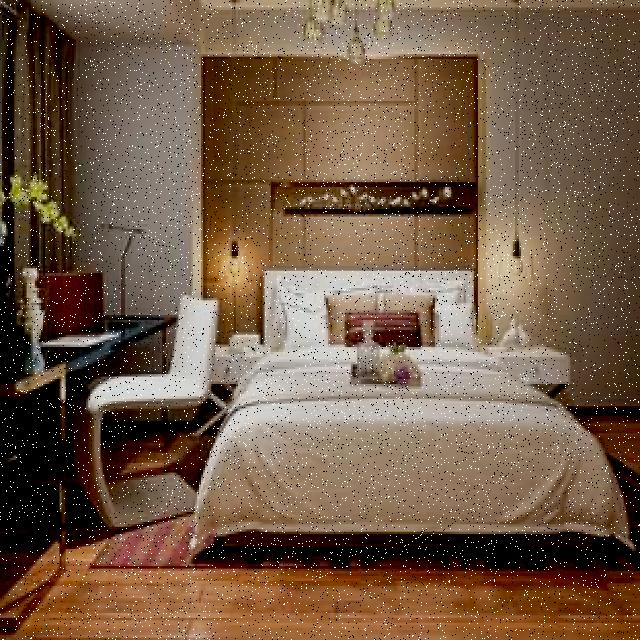bed: (190, 272, 630, 556)
